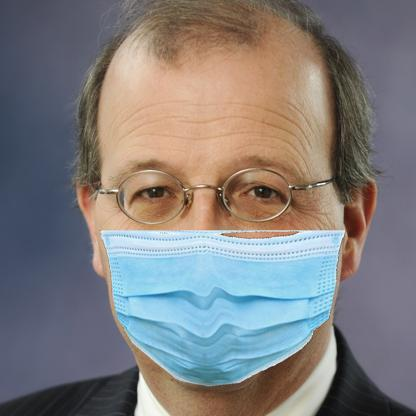mask: (99, 228, 335, 387)
